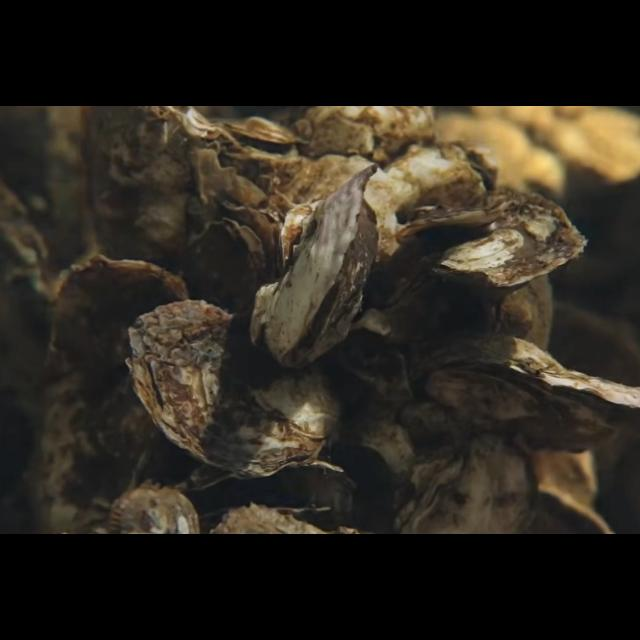Oyster-Closed: (40, 253, 192, 534), (378, 192, 588, 331), (408, 337, 640, 458), (247, 164, 381, 370), (387, 431, 539, 535)
Oyster-Indeterminate: (123, 298, 344, 480), (84, 107, 216, 275), (186, 218, 266, 312)
Oyster-Open: (178, 459, 344, 518)
